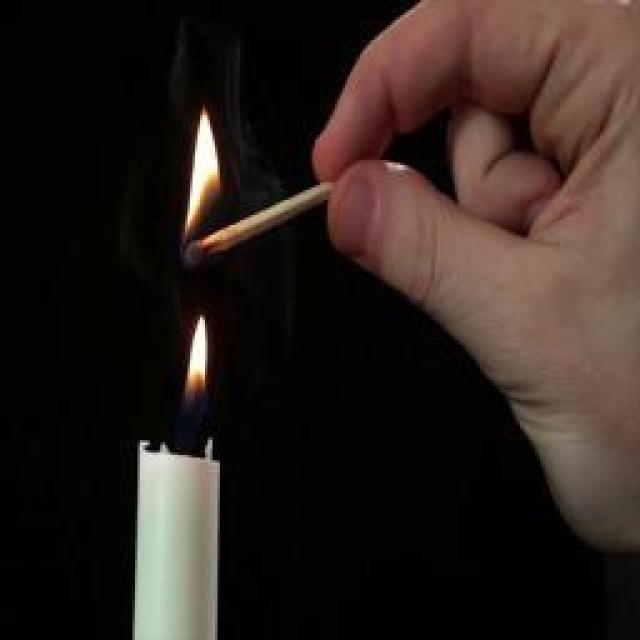Fire: (185, 114, 223, 242), (184, 318, 208, 404)
